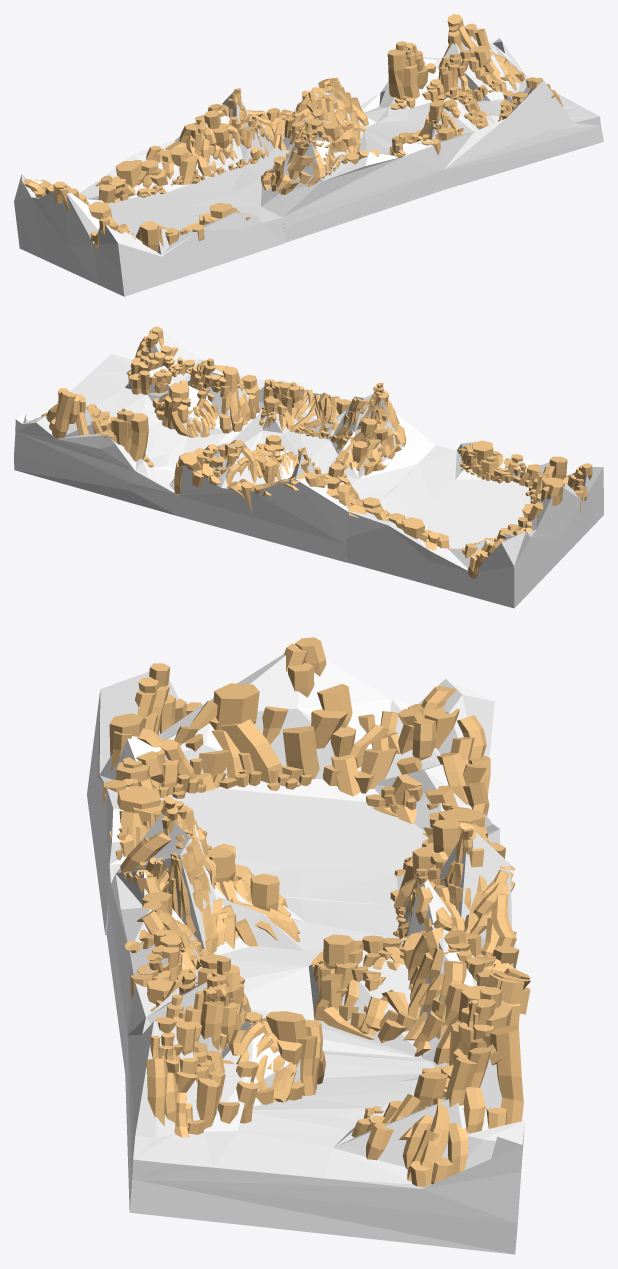
File: snow2_lev5.glb
3 views of the same model, one above another, from view 1: azimuth 30°, elevation 25°; view 2: azimuth 150°, elevation 25°; view 3: azimuth 270°, elevation 25° (orthographic). The views are drawn at different scales.
Parts seen in each view (by area): view 1: group1586283693.001, group103738613, snow2_lev5, group1232652771.001, group693436099, group1173914348, group1915387679.001, group1020127045.001, group1246920881, group576018752, group228751832, group423818086.001 (+2 smaller); view 2: group1586283693.001, snow2_lev5, group103738613, group1232652771.001, group576018752, group1517579395, group1173914348, group1020127045.001, group1652834067, group549770677, group1915387679.001, group693436099 (+3 smaller); view 3: group103738613, group1586283693.001, snow2_lev5, group854510486, group1652834067, group1246920881, group576018752, group549770677, group1670661091.001, group1899218596.001, group109473454.001, group955683139.001 (+24 smaller).
Boxes of the visible parts, box(x1,y1,x2,y2) form: group1586283693.001: box(14, 140, 285, 296); group103738613: box(358, 26, 603, 189); snow2_lev5: box(175, 91, 445, 242); group1232652771.001: box(261, 146, 319, 188); group693436099: box(438, 49, 475, 93); group1173914348: box(387, 49, 406, 99); group1915387679.001: box(261, 148, 324, 194); group1020127045.001: box(179, 104, 221, 156); group1246920881: box(305, 118, 352, 149); group576018752: box(389, 132, 440, 155); group228751832: box(403, 64, 419, 98); group423818086.001: box(116, 161, 139, 187); group1586283693.001: box(346, 441, 603, 608); snow2_lev5: box(178, 385, 435, 562); group103738613: box(14, 325, 264, 516); group1232652771.001: box(367, 398, 405, 465); group576018752: box(259, 379, 300, 430); group1517579395: box(186, 398, 218, 437); group1173914348: box(129, 413, 148, 461); group1020127045.001: box(305, 472, 360, 508); group1652834067: box(52, 390, 75, 438); group549770677: box(190, 365, 227, 401); group1915387679.001: box(364, 399, 405, 475); group693436099: box(85, 405, 114, 433); group103738613: box(125, 967, 524, 1254); group1586283693.001: box(87, 646, 499, 934); snow2_lev5: box(106, 814, 513, 1073); group854510486: box(229, 1020, 296, 1102); group1652834067: box(490, 1025, 523, 1124); group1246920881: box(319, 935, 402, 1009); group576018752: box(130, 929, 182, 1000); group549770677: box(200, 976, 246, 1051); group1670661091.001: box(219, 719, 282, 783); group1899218596.001: box(213, 683, 259, 730); group109473454.001: box(381, 774, 457, 813); group955683139.001: box(282, 726, 319, 779).
Size of the model in its own units: 1390 by 316 by 538.
